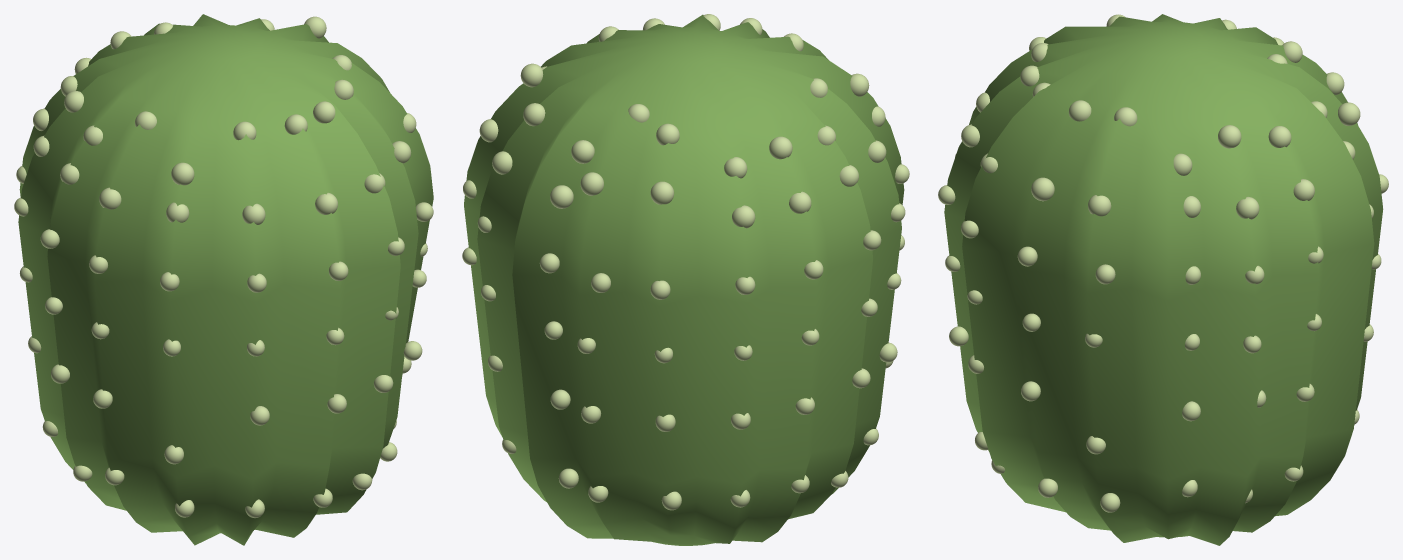
The model's file is кактус.fbx.
The picture shows the model from 3 angles, left to right: view 1: azimuth 30°, elevation 25°; view 2: azimuth 150°, elevation 25°; view 3: azimuth 270°, elevation 25°; orthographic projection. The views are drawn at different scales.
Visible parts, largest first — view 1: Sphere, Sphere.001; view 2: Sphere, Sphere.001; view 3: Sphere, Sphere.001.
Part boxes in pixels (x1,y1,x2,y2): Sphere: [18, 14, 433, 545]; Sphere.001: [14, 16, 433, 517]; Sphere: [464, 14, 904, 545]; Sphere.001: [462, 14, 909, 510]; Sphere: [944, 14, 1383, 545]; Sphere.001: [938, 14, 1388, 512].
Size of the model in its own units: 257 by 315 by 266.
